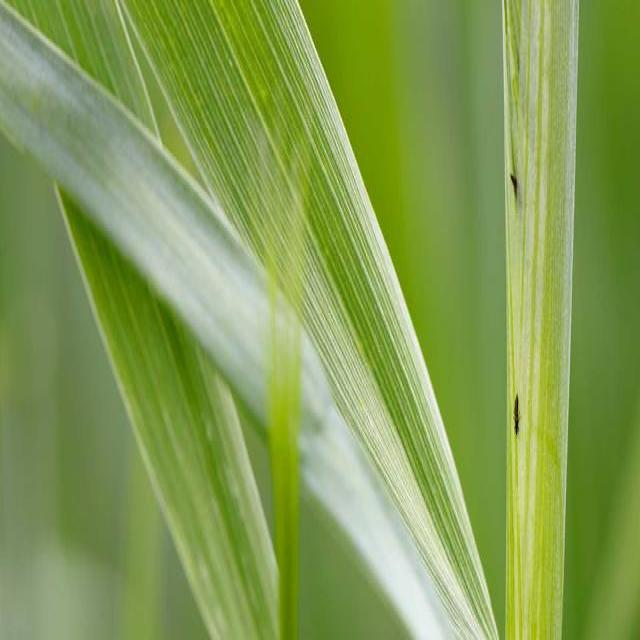Thrip-Adult-: (511, 388, 524, 444)
